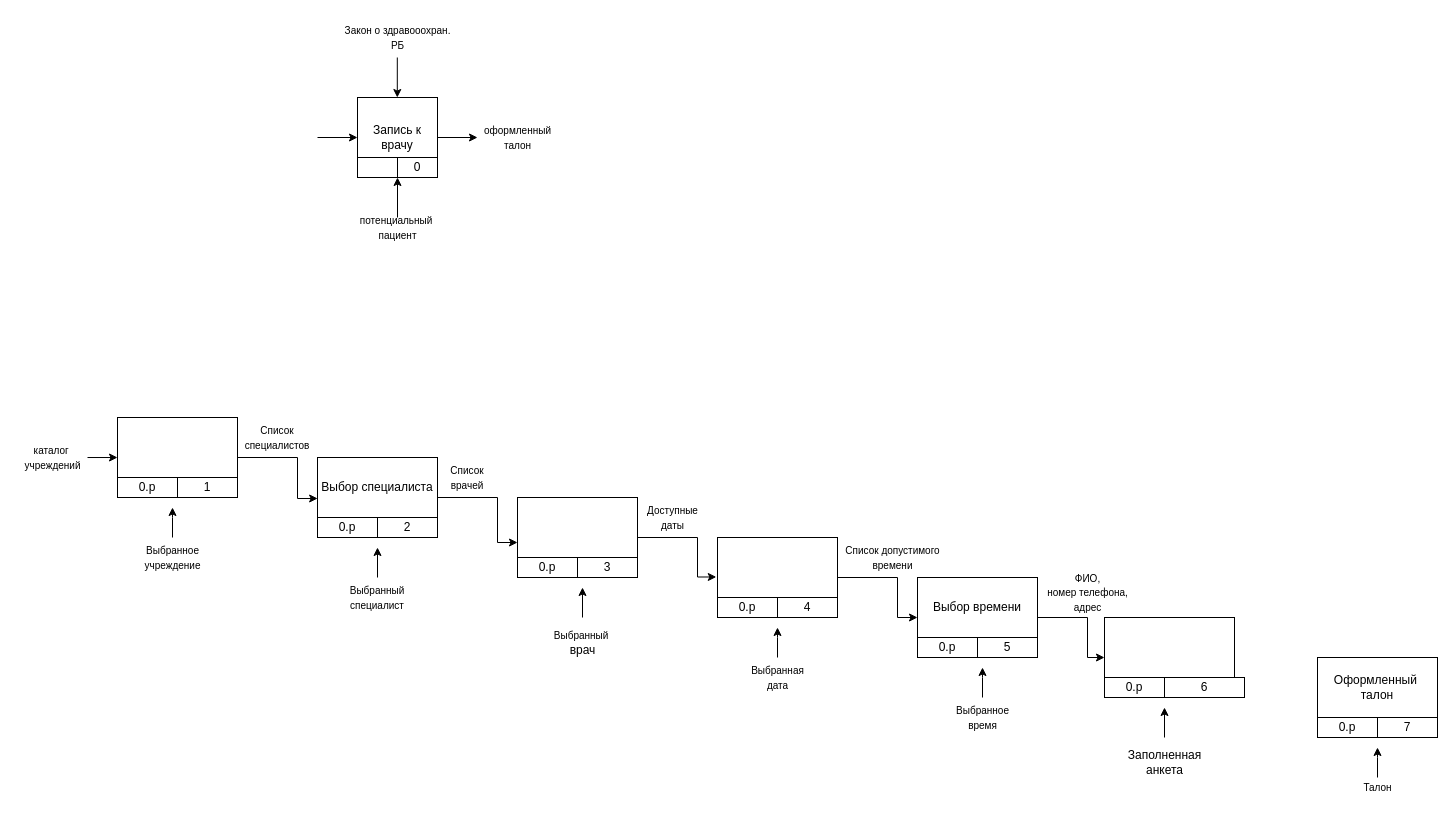
Image size: 1455x814. Some labels were removed from this diagram. Each missing label, with the box of its shape:
0 р: (356, 156, 398, 178)
Выбор врача: (516, 496, 638, 558)
Выбор даты: (716, 536, 838, 598)
Выбор учреждения: (116, 416, 238, 478)
Добавить личные данные: (1104, 616, 1234, 678)
